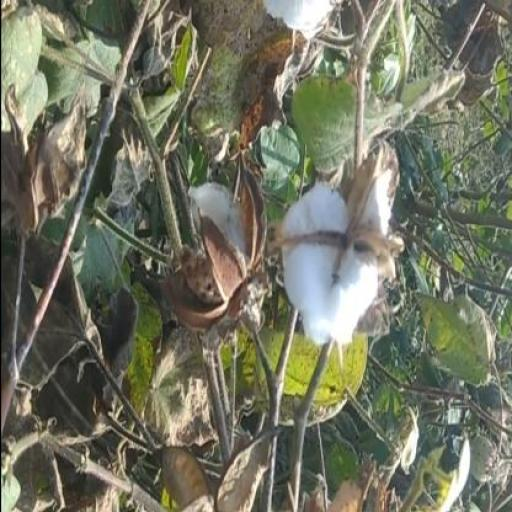cotton_ready: (270, 128, 400, 368)
